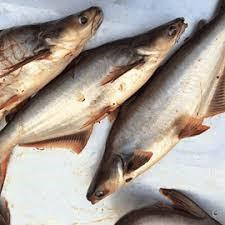Pangasius: (0, 17, 187, 191), (86, 0, 225, 204), (0, 6, 104, 104)
